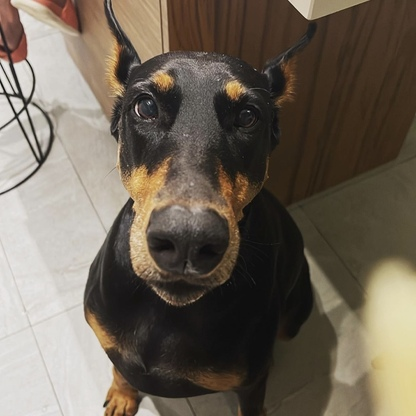doberman: (81, 7, 321, 407)
